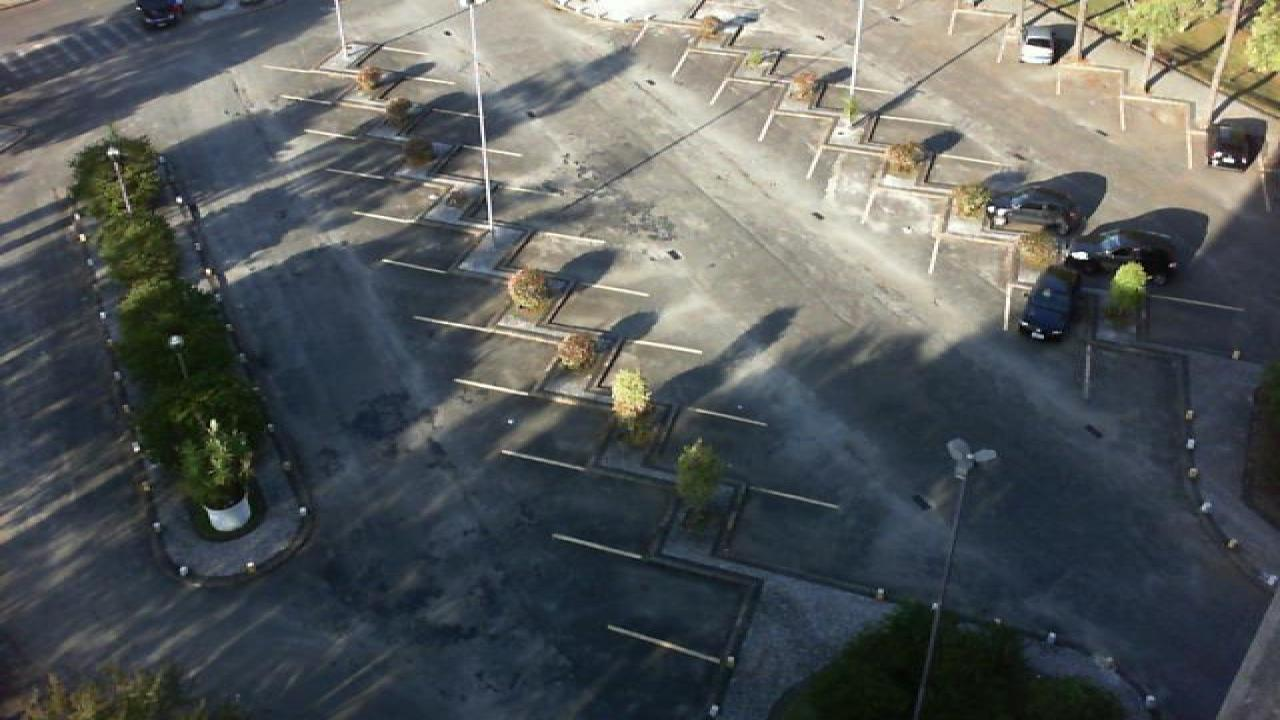Car: (1068, 228, 1180, 286), (1014, 267, 1086, 343), (982, 183, 1084, 235), (1206, 117, 1268, 173), (1016, 22, 1076, 66), (136, 0, 186, 32)
